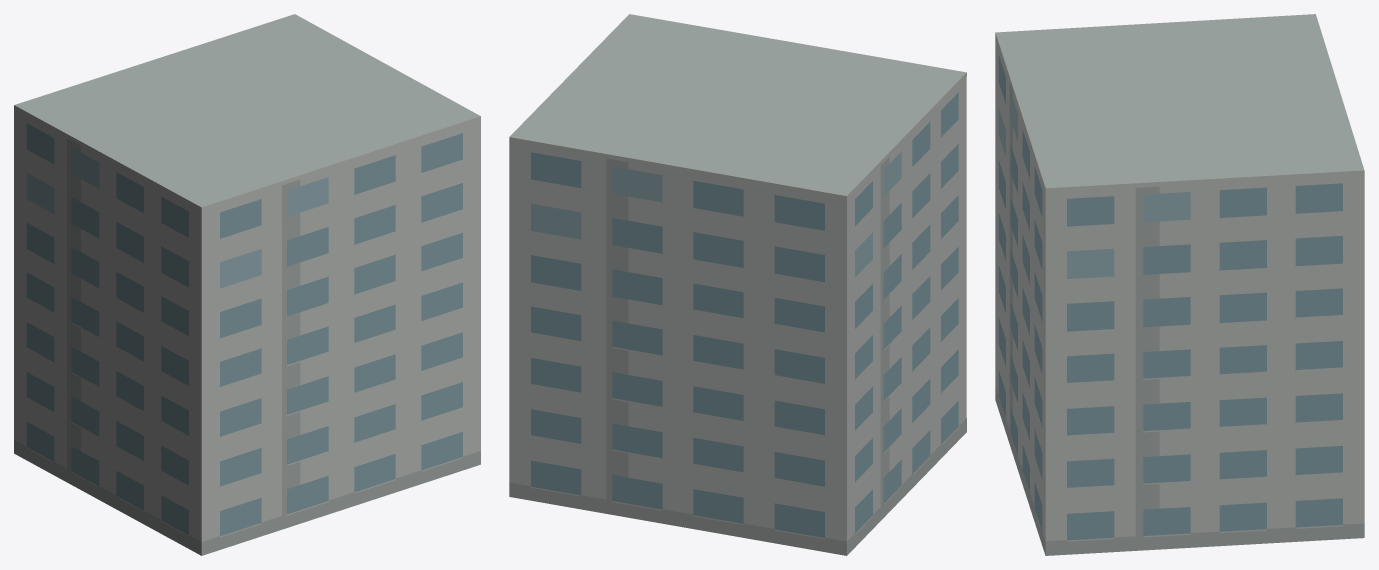
File: survey-upis-32863864.glb
3 renders of one model, left to right at view 1: azimuth 30°, elevation 25°; view 2: azimuth 150°, elevation 25°; view 3: azimuth 270°, elevation 25°, orthographic. The views are drawn at different scales.
Parts seen in each view (by area): view 1: survey-upis-32863864.tmp; view 2: survey-upis-32863864.tmp; view 3: survey-upis-32863864.tmp.
Boxes of the visible parts, x1=… form: survey-upis-32863864.tmp: x1=14, y1=14, x2=480, y2=555; survey-upis-32863864.tmp: x1=509, y1=14, x2=966, y2=555; survey-upis-32863864.tmp: x1=995, y1=14, x2=1364, y2=555.
Bounding box in the file's own units: 20.46 × 20.1 × 18.31.
